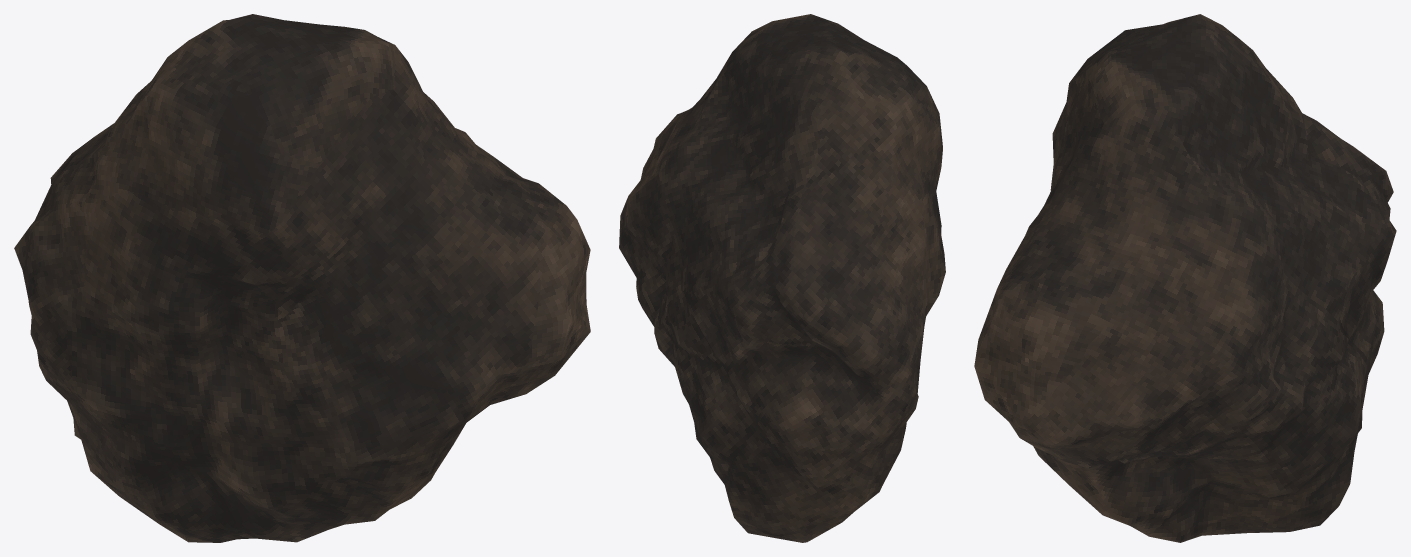
The model's file is SM_RP2_Rock_2m_0.002.glb.
The picture shows the model from 3 angles, left to right: view 1: azimuth 30°, elevation 25°; view 2: azimuth 150°, elevation 25°; view 3: azimuth 270°, elevation 25°; orthographic projection. The views are drawn at different scales.
Visible parts, largest first — view 1: SM_RP2_Rock_2m_0.002; view 2: SM_RP2_Rock_2m_0.002; view 3: SM_RP2_Rock_2m_0.002.
Boxes of the visible parts, <box> form: SM_RP2_Rock_2m_0.002: <box>14,14,590,542</box>; SM_RP2_Rock_2m_0.002: <box>619,14,945,542</box>; SM_RP2_Rock_2m_0.002: <box>974,14,1396,542</box>.
Size of the model in its own units: 3 by 3.73 by 2.82.
Materials: 1 (1 with a texture image).
